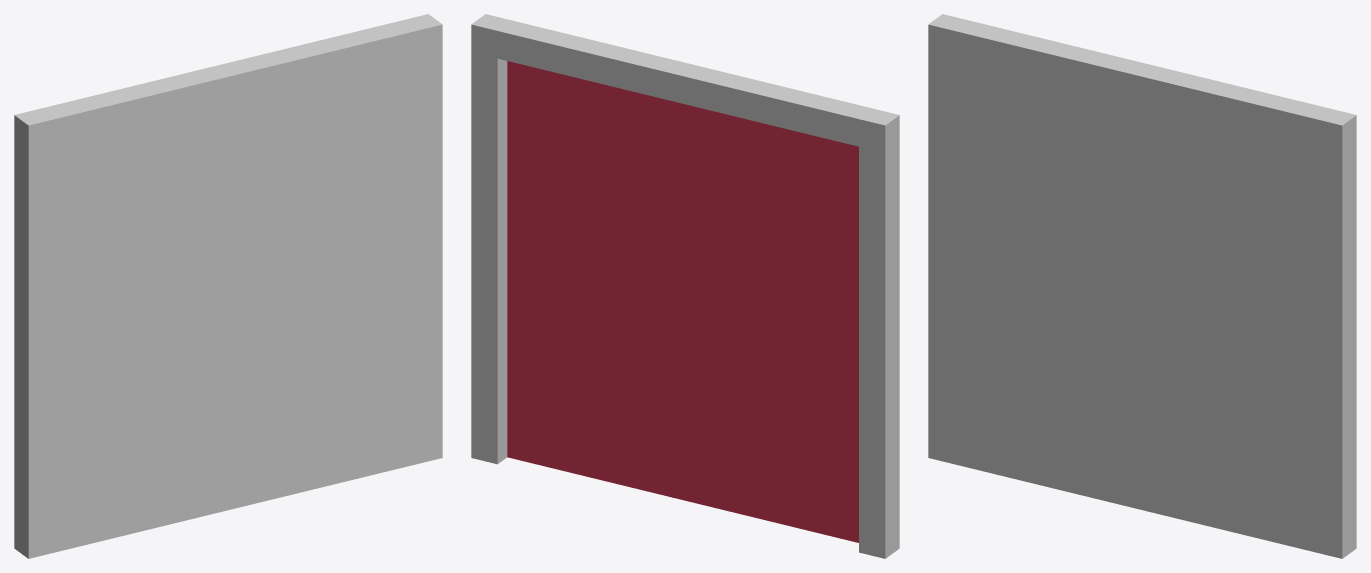
Rendered from Portaaal.fbx.
The picture shows the model from 3 angles, left to right: view 1: azimuth 30°, elevation 25°; view 2: azimuth 150°, elevation 25°; view 3: azimuth 330°, elevation 25°; orthographic projection.
Visible parts, largest first — view 1: Cube; view 2: Cube; view 3: Cube.
Part boxes in pixels (left/top/right/bottom): Cube: left=14, top=14, right=442, bottom=558; Cube: left=471, top=14, right=899, bottom=558; Cube: left=928, top=14, right=1356, bottom=558.
Size of the model in its own units: 200 by 200 by 12.03.
